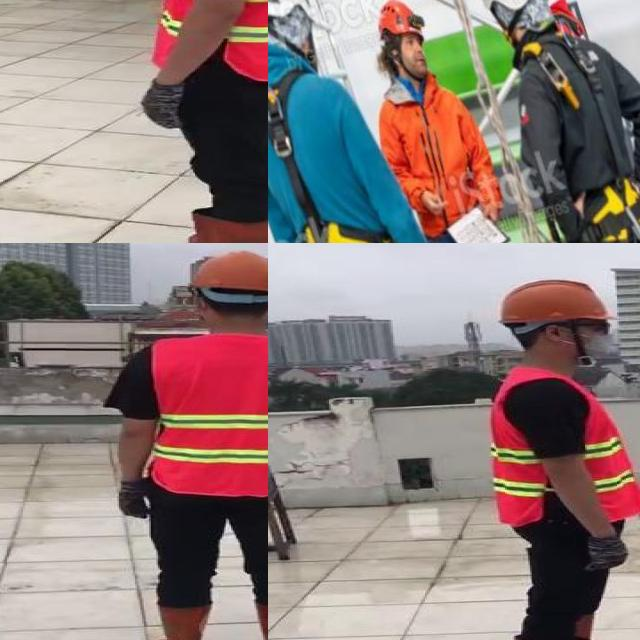Harness: (268, 71, 392, 243), (565, 43, 640, 243)
boots: (141, 209, 268, 243), (526, 610, 640, 640), (149, 600, 209, 640)
face_mask: (564, 318, 618, 360)
hand_glove: (136, 82, 190, 130), (581, 533, 633, 573), (117, 479, 149, 520)
head_helmet: (498, 278, 612, 326), (183, 248, 268, 296)
person: (102, 247, 268, 640), (480, 278, 640, 640), (138, 0, 268, 243)
vest: (489, 365, 640, 526), (150, 333, 268, 494), (145, 0, 268, 85)
